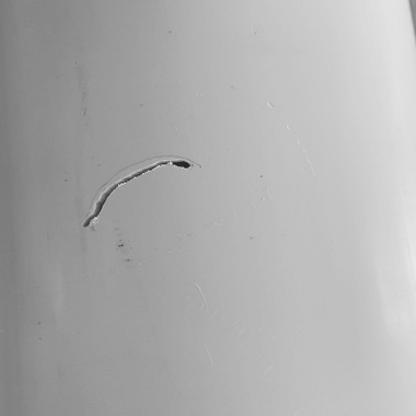fengxi: (79, 158, 202, 230)
